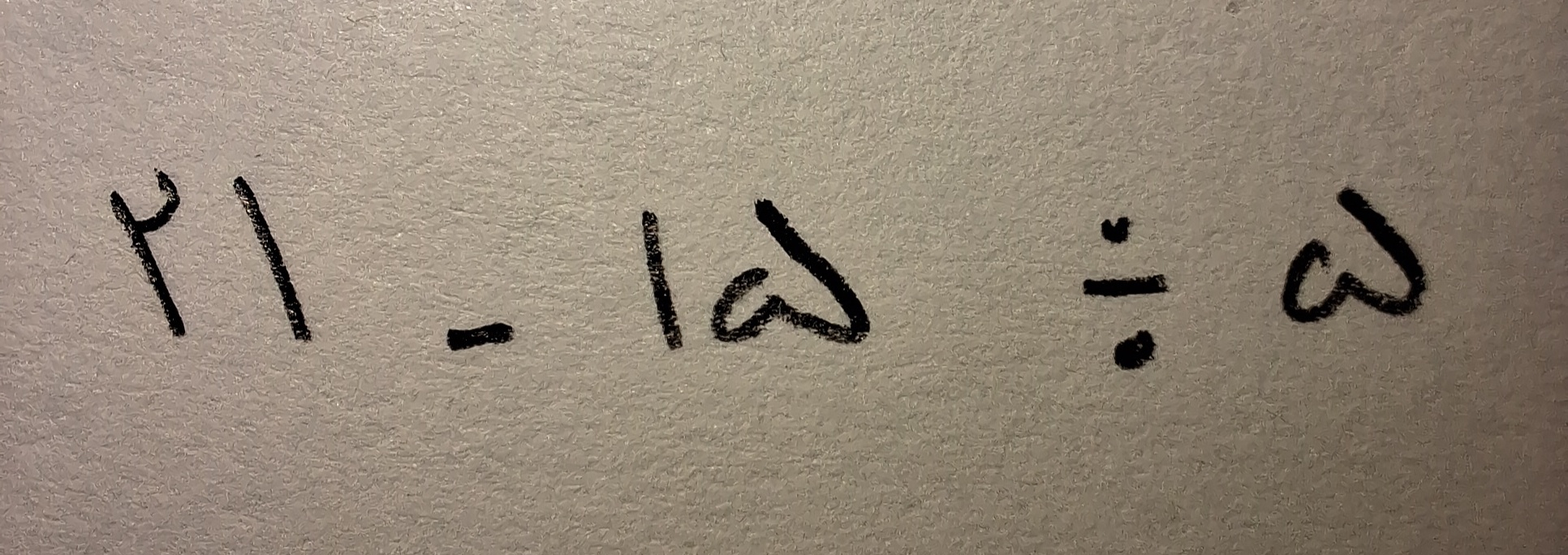character: (710, 196, 869, 344), (1280, 185, 1427, 321), (1083, 216, 1167, 375), (234, 176, 311, 342), (112, 171, 186, 339), (643, 208, 684, 349), (448, 324, 512, 349)
